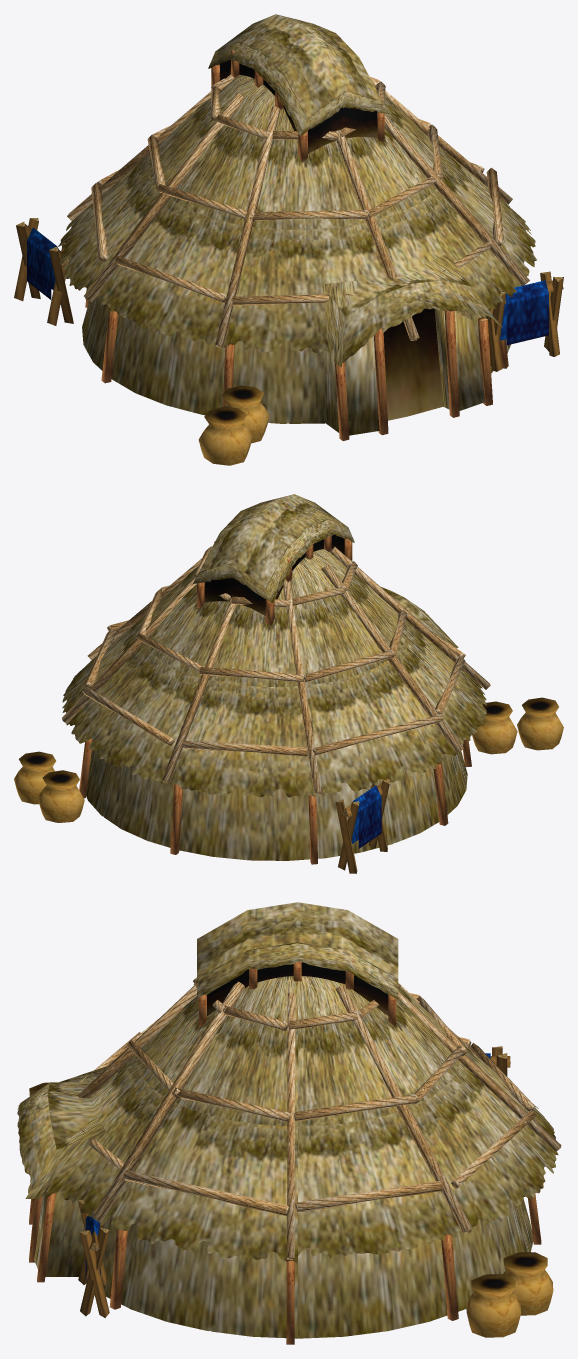
The model's file is house_4.dae.
3 views of the same model, one above another, from view 1: azimuth 30°, elevation 25°; view 2: azimuth 150°, elevation 25°; view 3: azimuth 270°, elevation 25° (orthographic). The views are drawn at different scales.
Visible parts, largest first — view 1: house_4; view 2: house_4; view 3: house_4.
Boxes of the visible parts, x1,y1,x2,y2 form: house_4: [14, 14, 563, 465]; house_4: [14, 494, 563, 873]; house_4: [17, 902, 561, 1344].
Size of the model in its own units: 12.39 by 12.79 by 8.74.
